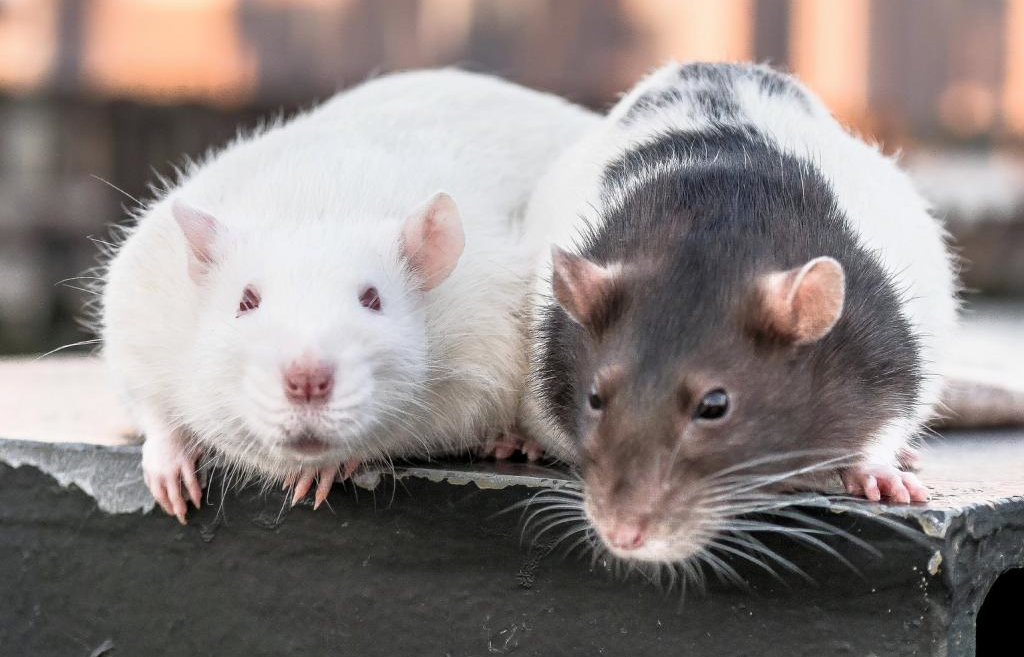rat: (517, 62, 944, 586), (81, 57, 536, 518)
